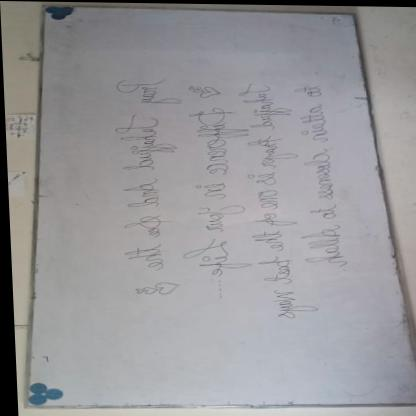Handwritten text: (232, 73, 305, 326), (106, 75, 178, 275), (284, 80, 353, 264), (180, 104, 248, 278)
Whiteboard: (21, 3, 416, 406)
